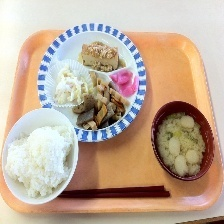rice: (0, 118, 76, 202)
